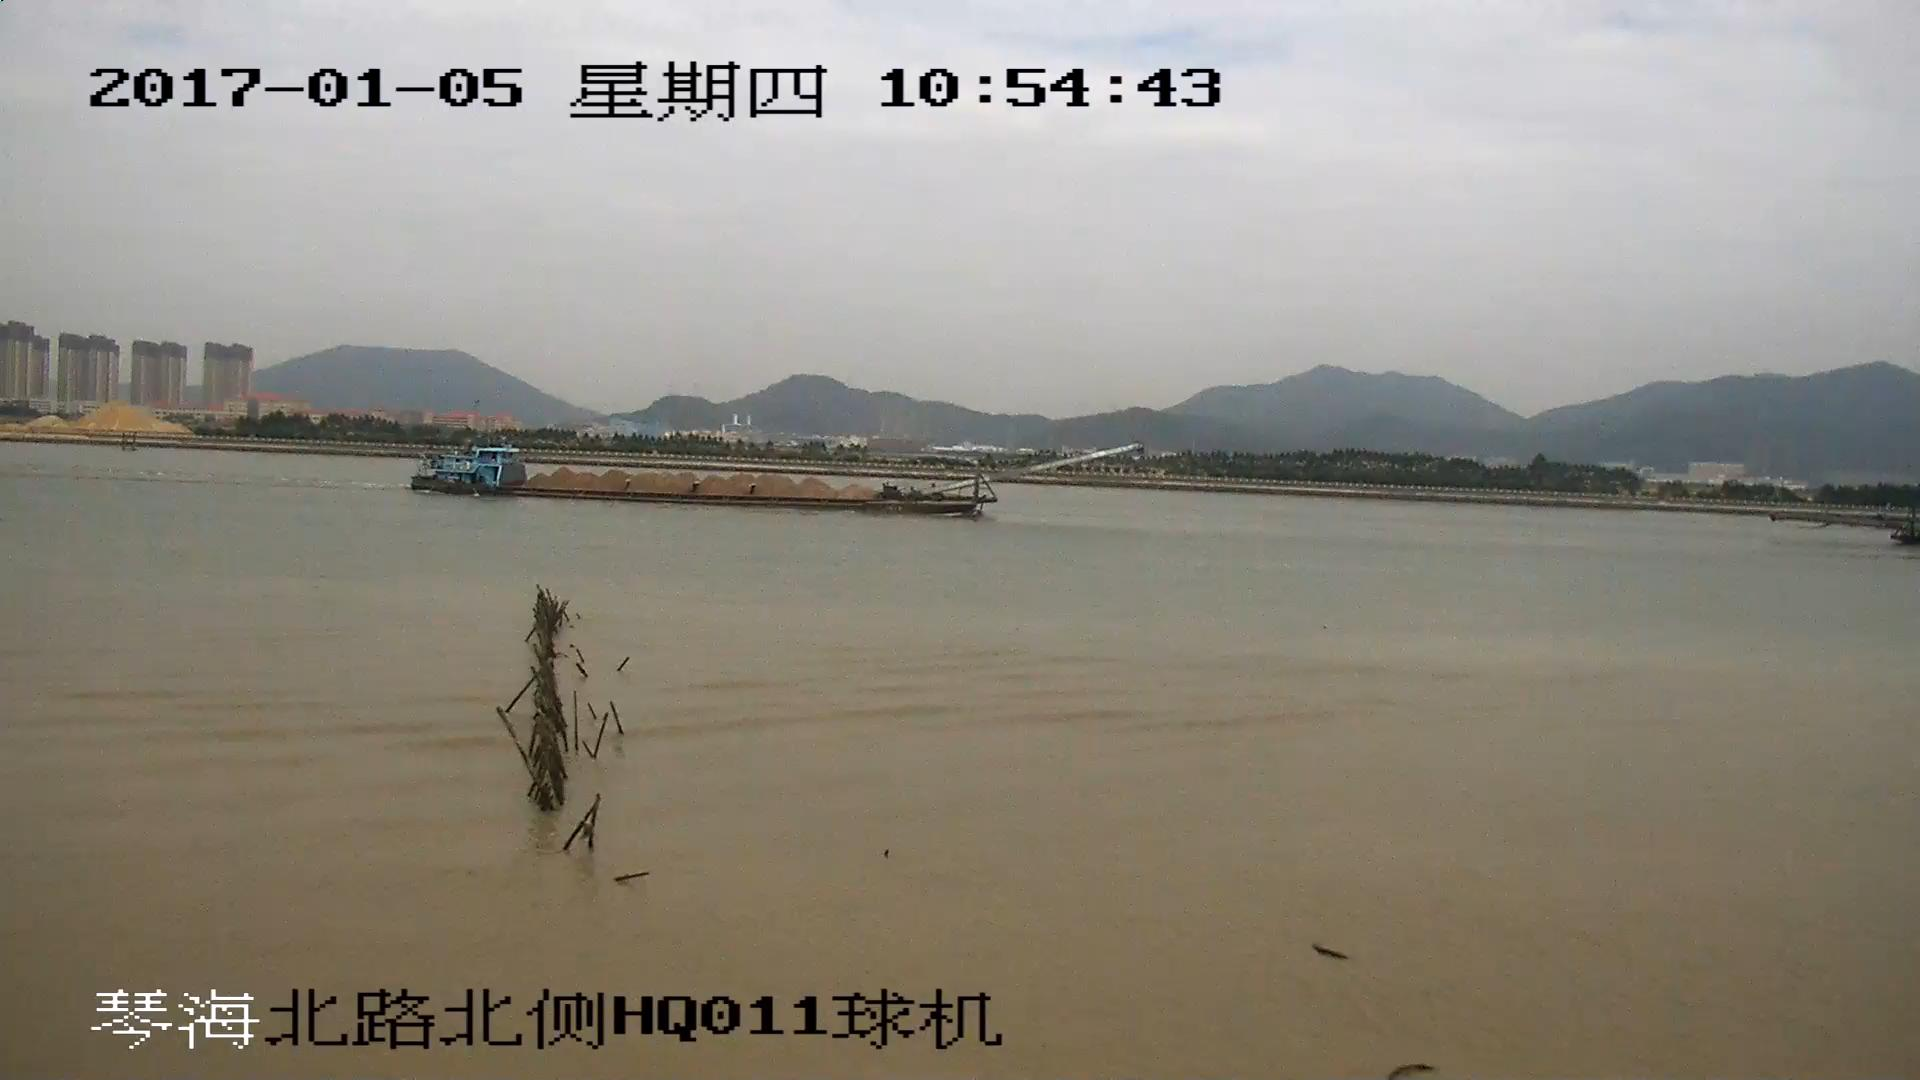ore carrier: (408, 444, 1136, 518)
